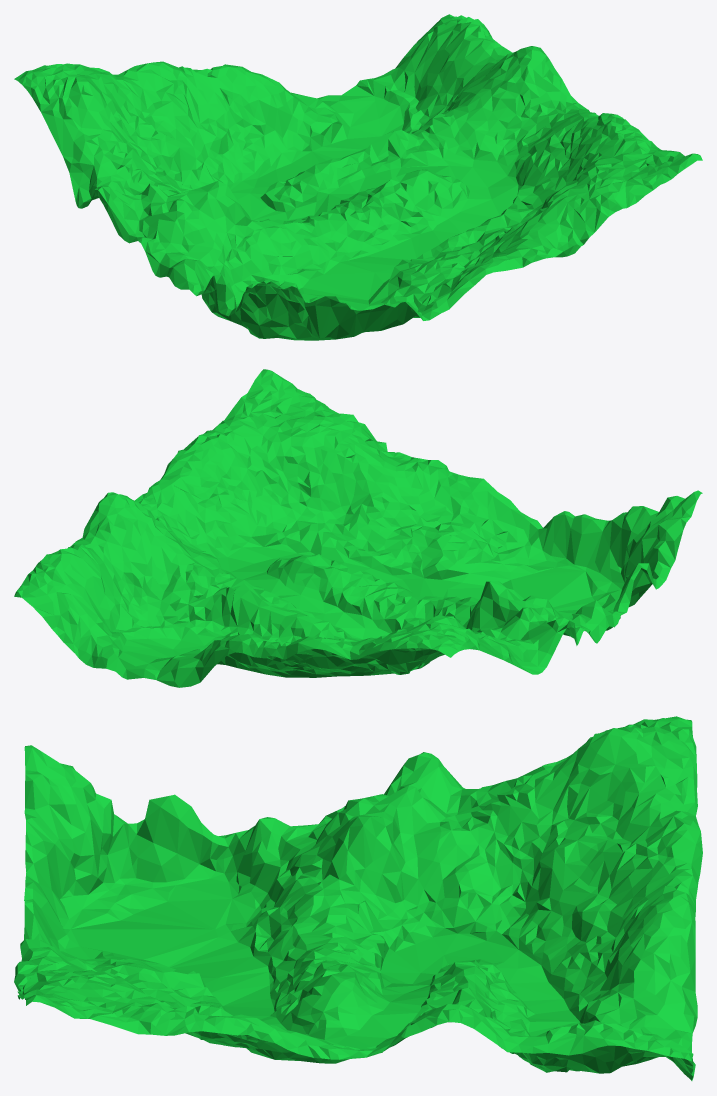
File: level1_terrain.fbx
The picture shows the model from 3 angles, top to bottom: view 1: azimuth 30°, elevation 25°; view 2: azimuth 150°, elevation 25°; view 3: azimuth 270°, elevation 25°; orthographic projection. The views are drawn at different scales.
Visible parts, largest first — view 1: terrain; view 2: terrain; view 3: terrain.
Boxes of the visible parts, x1,y1,x2,y2 form: terrain: (14, 14, 702, 340); terrain: (14, 369, 702, 687); terrain: (14, 716, 702, 1080).
Bounding box in the file's own units: 2950 × 773 × 2897.
